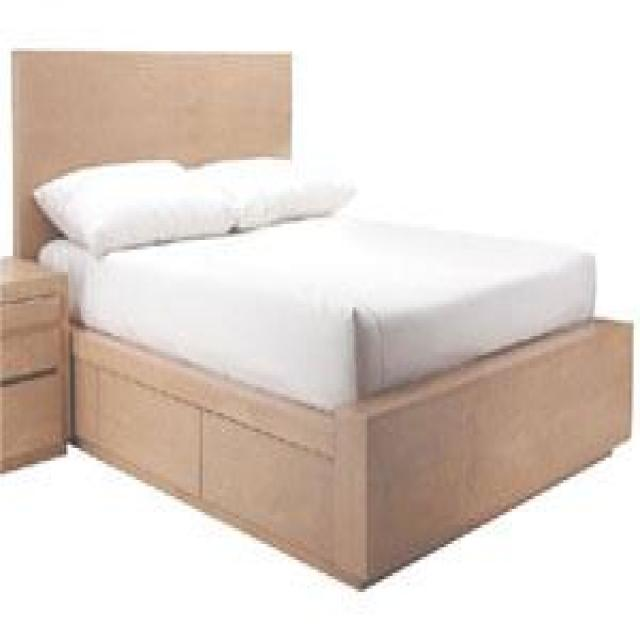bed: (10, 47, 633, 592)
